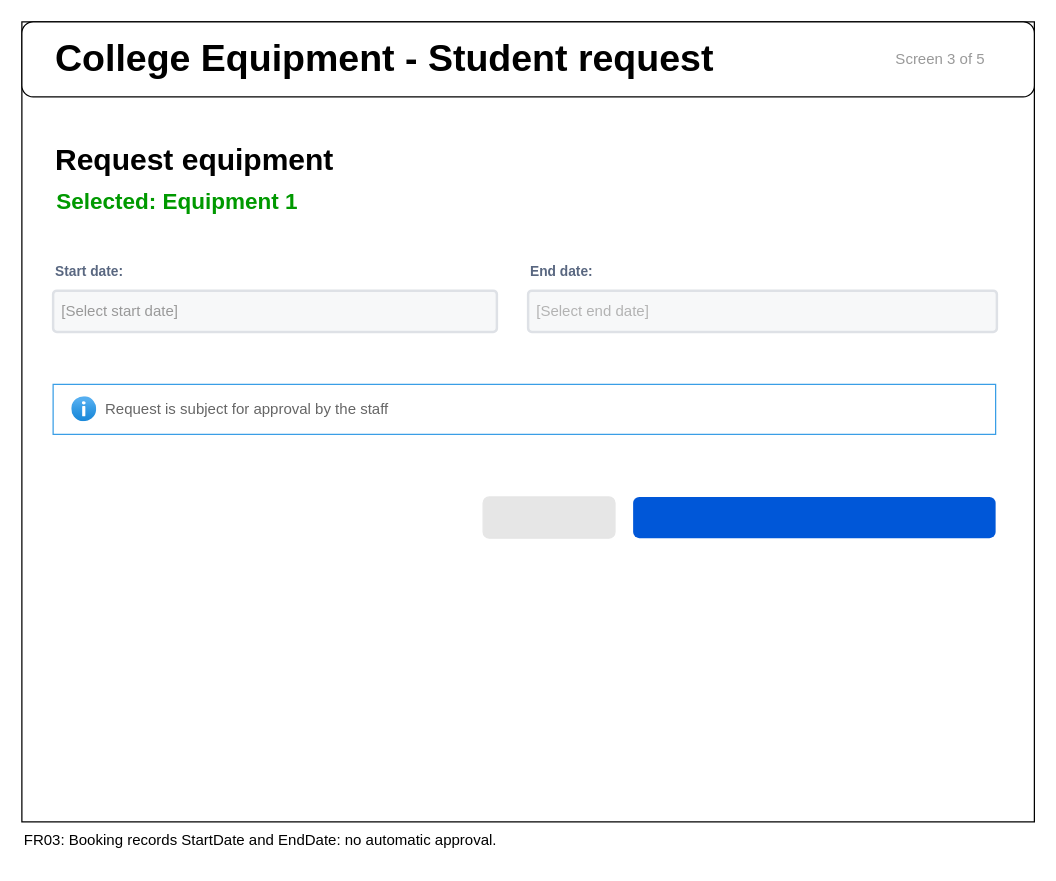
Some shapes in this 1056 by 881 pixel diagram are drawn without their labels. The centre of each missing label's shape, as x and y in pixels:
"Back" belongs at (548,517).
"Submit Request" belongs at (813,517).
